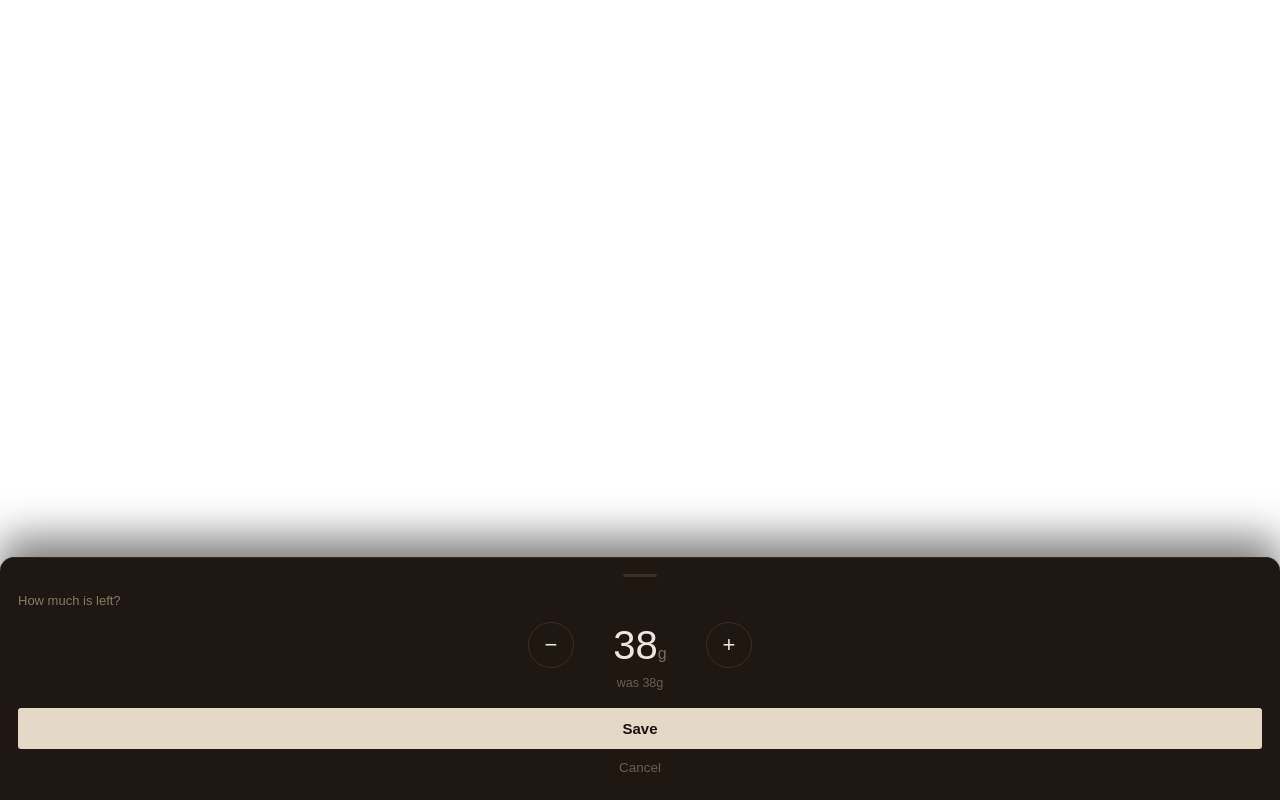
Test case: GramsSheet › steps down by one gram
Click the button with test id "grams-minus" at (551, 645), box [528,622,574,668]
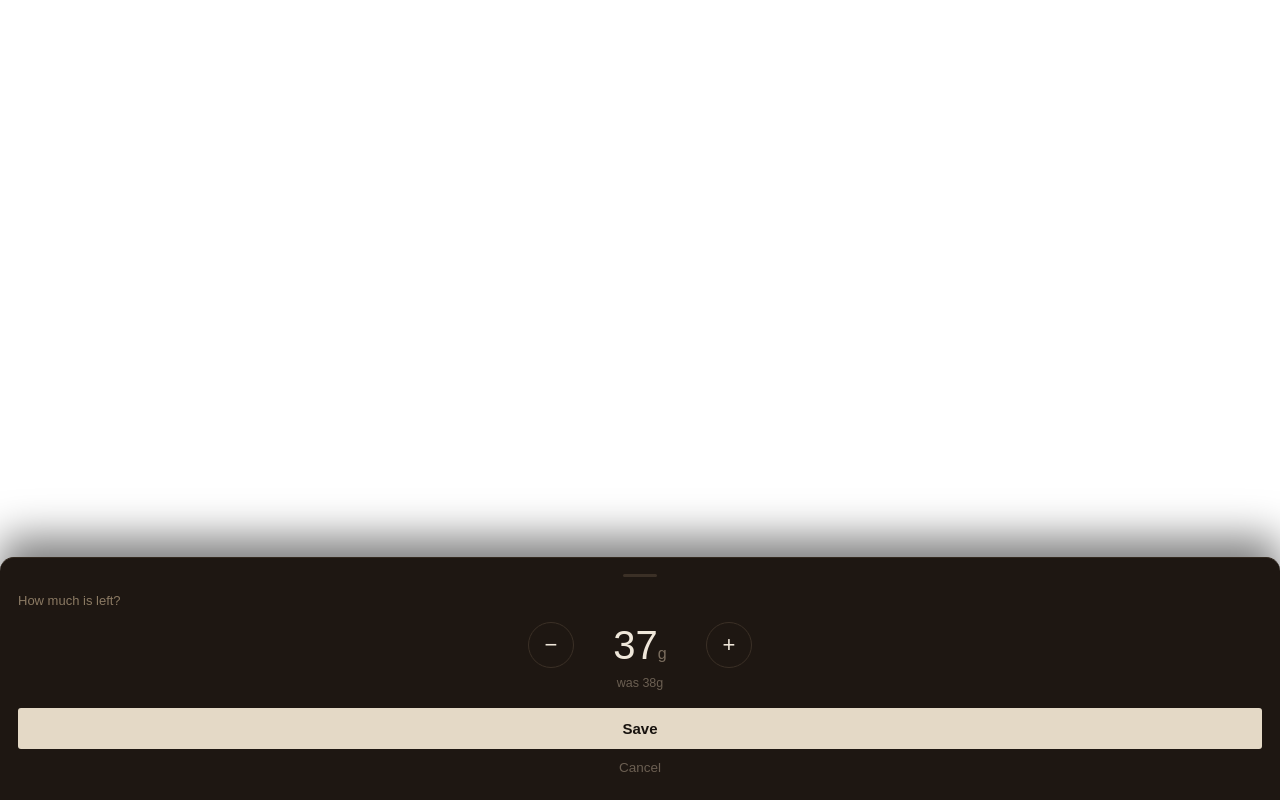
Now the element with test id "grams-value" shows "37", box [613,622,658,666]
